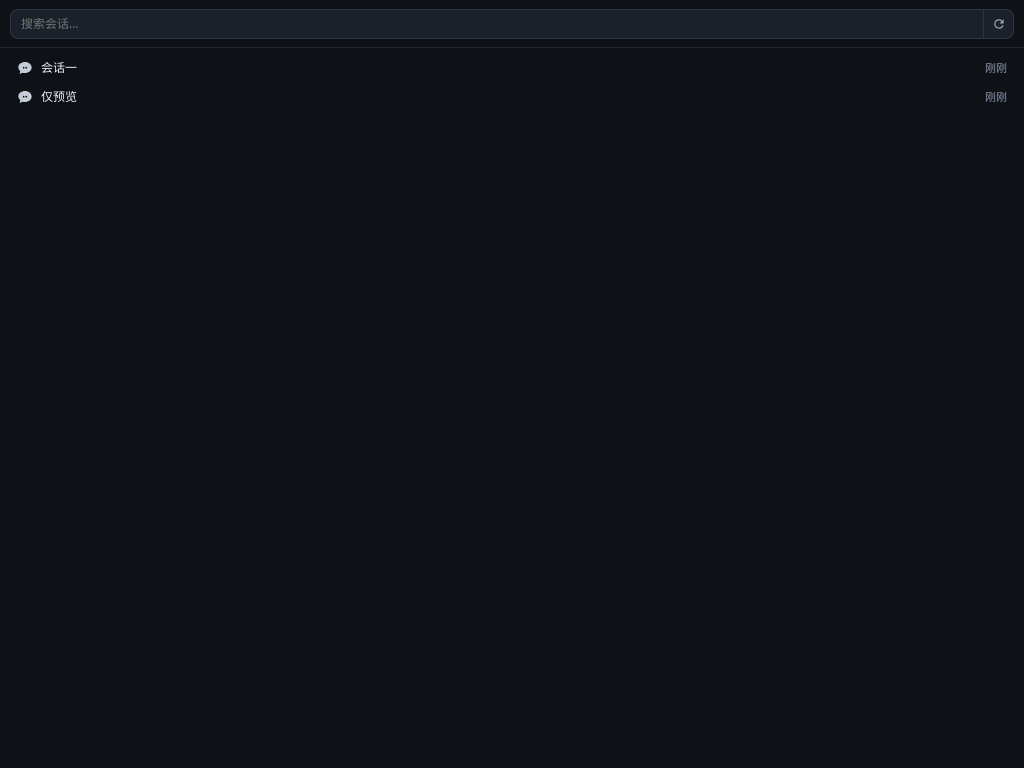
Test case: SessionView 删除确认 › 右键菜单点删除弹出确认框，且不直接删除
Right-click the element with class "session-item" showing "会话一 刚刚".
right_click(59, 68)  # box [17,59,1007,76]
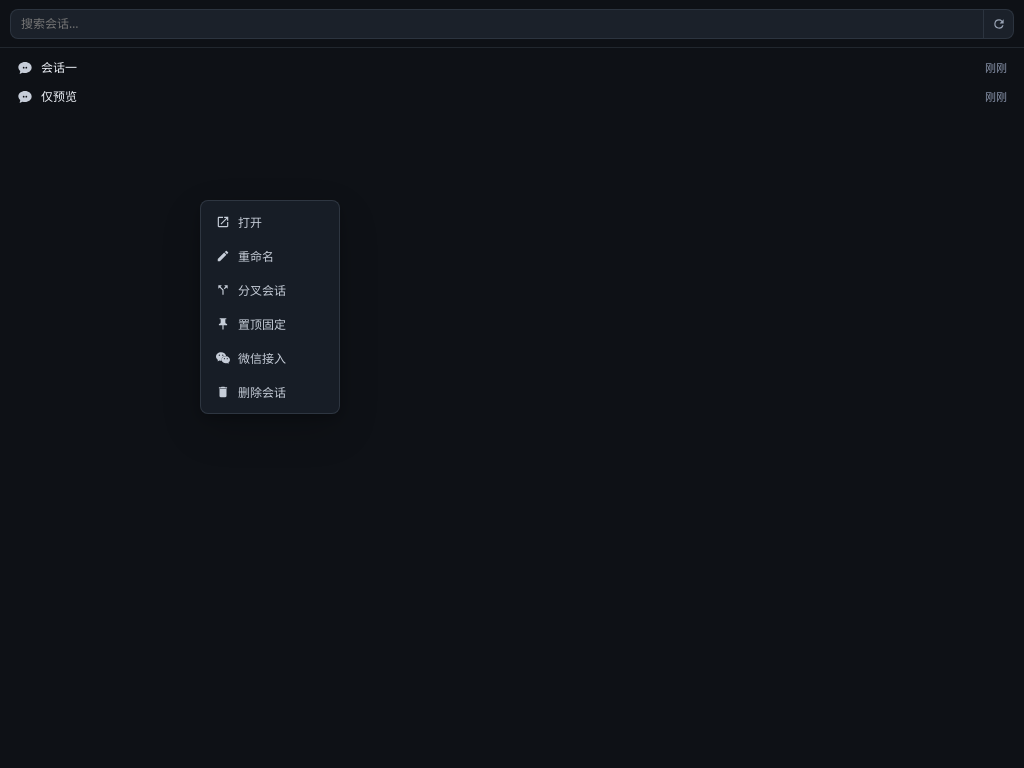
Expected: the button with class "ctx-menu-item" showing "删除会话" is shown
Click the button with class "ctx-menu-item" showing "删除会话".
click(270, 392)  # box [205,375,335,409]
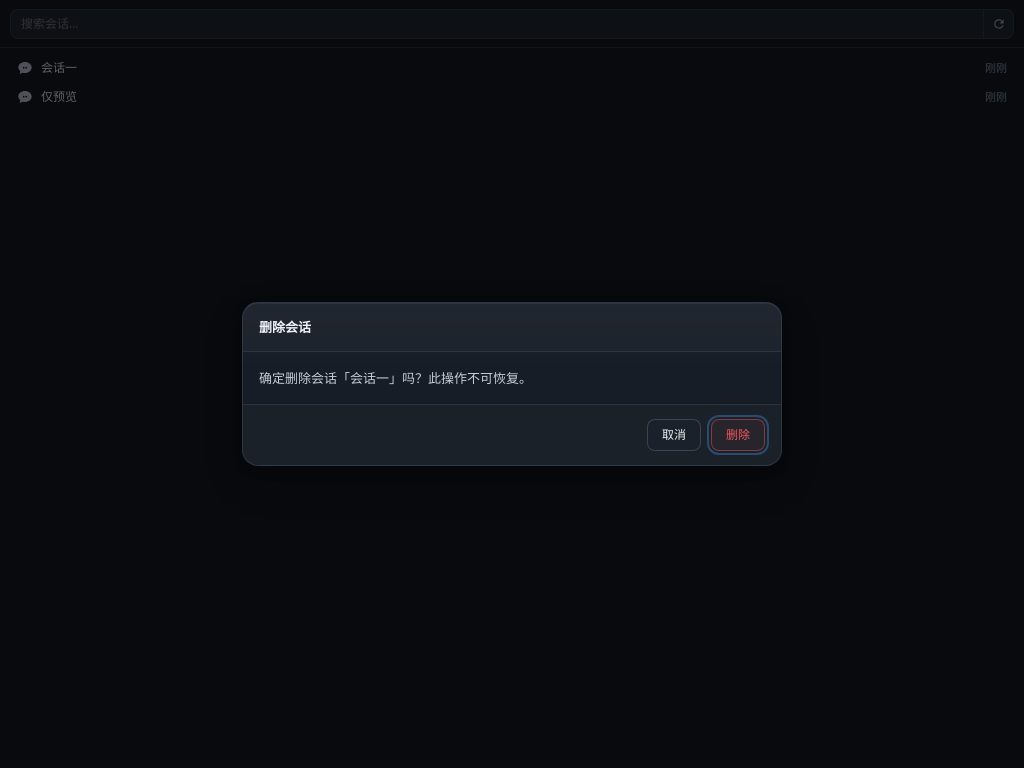
Expected: the element with class "modal-mask" is shown
Expected: the text "确定删除会话「会话一」吗？此操作不可恢复。" is shown, [259,369,535,387]
